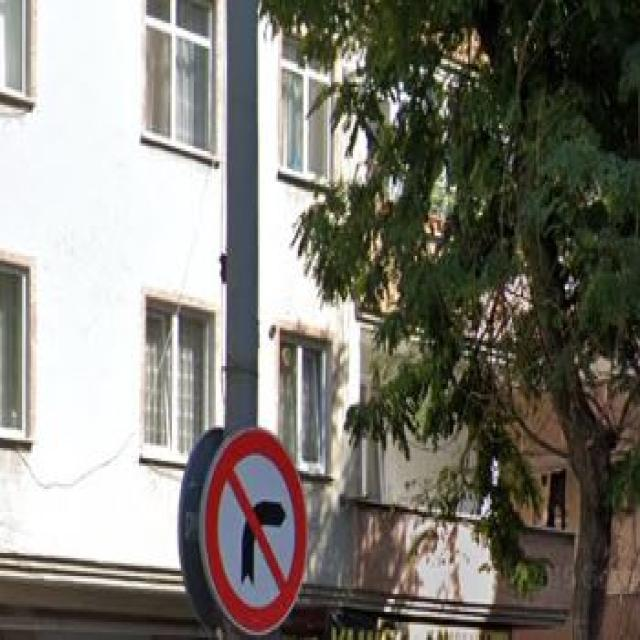sagadonulmez: (203, 427, 307, 635)
